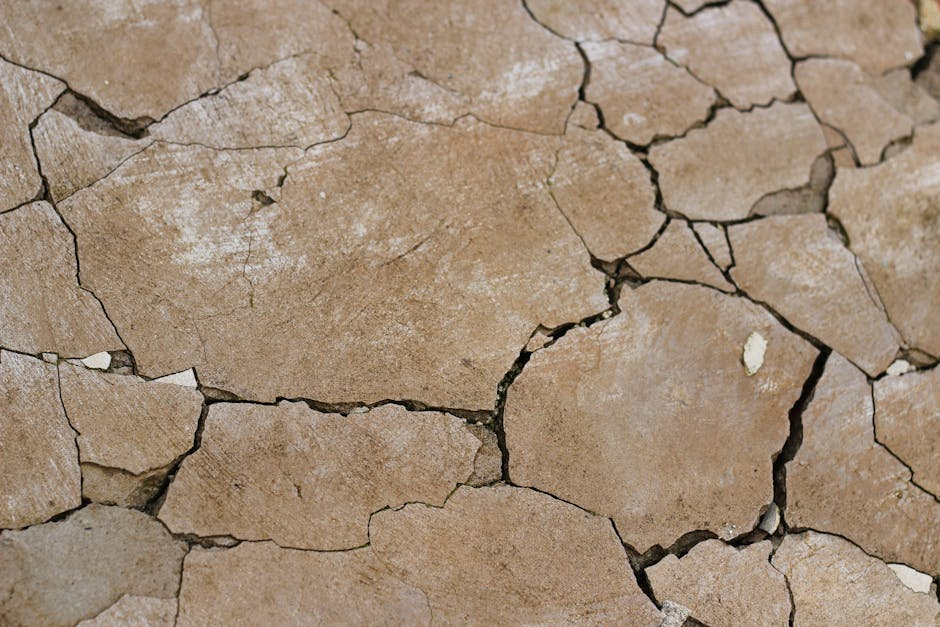深大裂缝: (573, 506, 822, 595), (750, 387, 842, 568)
细微裂纹: (109, 84, 464, 172), (294, 467, 503, 548)
网状裂隙: (527, 0, 863, 358), (28, 336, 250, 531)
